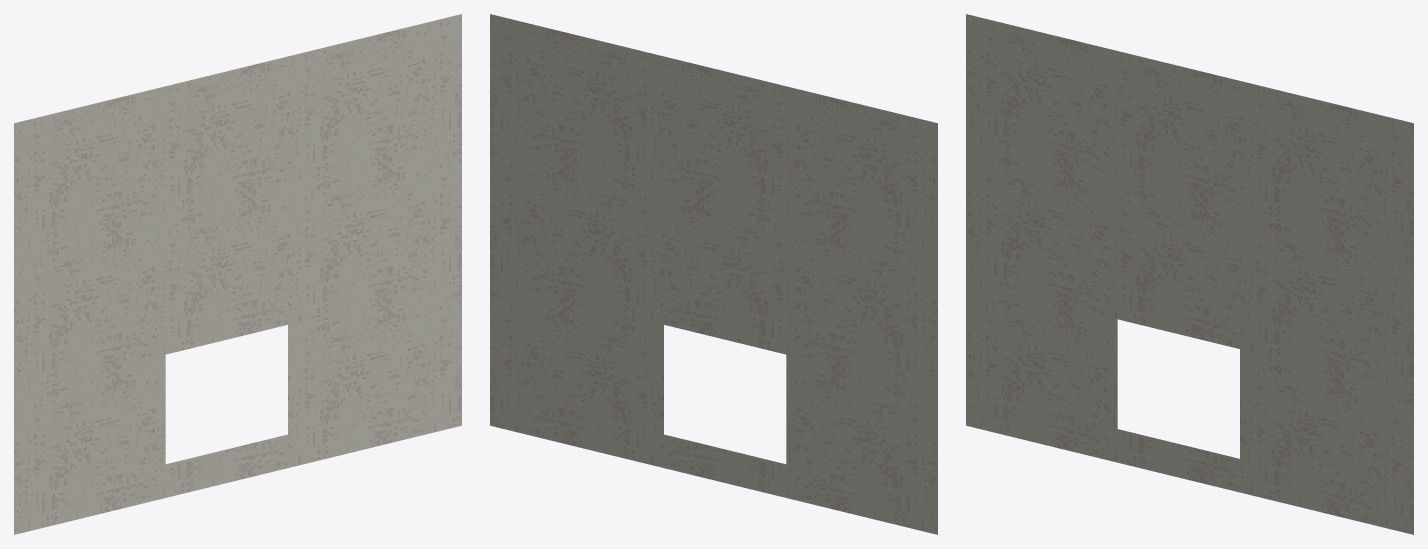
The model's file is kd_stage_135c43_4_30_bounded_piece_0.glb.
The picture shows the model from 3 angles, left to right: view 1: azimuth 30°, elevation 25°; view 2: azimuth 150°, elevation 25°; view 3: azimuth 330°, elevation 25°; orthographic projection.
Parts seen in each view (by area): view 1: kd_stage_135c43_4_30_bounded_piece_0; view 2: kd_stage_135c43_4_30_bounded_piece_0; view 3: kd_stage_135c43_4_30_bounded_piece_0.
Boxes of the visible parts, x1,y1,x2,y2 form: kd_stage_135c43_4_30_bounded_piece_0: (14,14,461,534); kd_stage_135c43_4_30_bounded_piece_0: (490,14,937,534); kd_stage_135c43_4_30_bounded_piece_0: (966,14,1413,534).
Bounding box in the file's own units: 1.28 × 1.13 × 0.
1 material, 1 textured.
